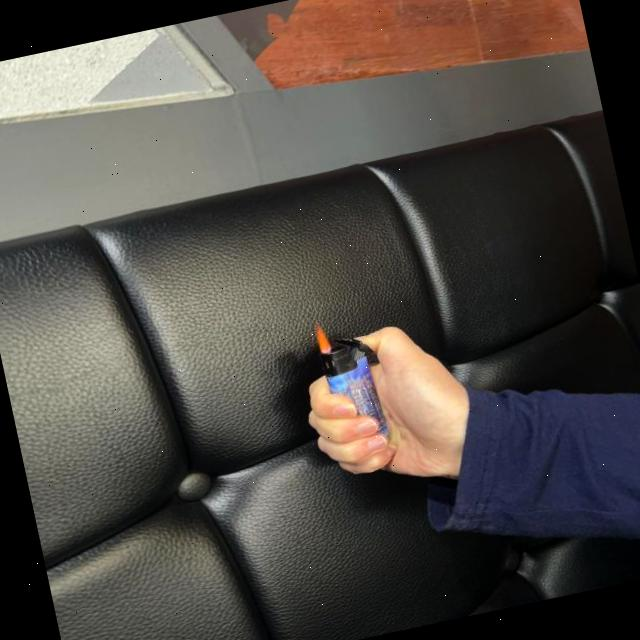fire: (312, 321, 332, 355)
